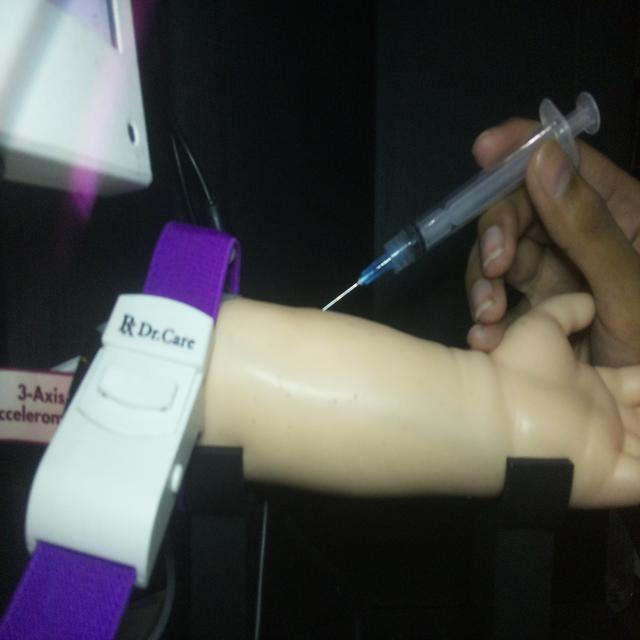28 degrees: (320, 88, 602, 314)
